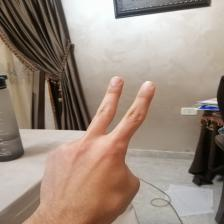two: (47, 73, 159, 218)
